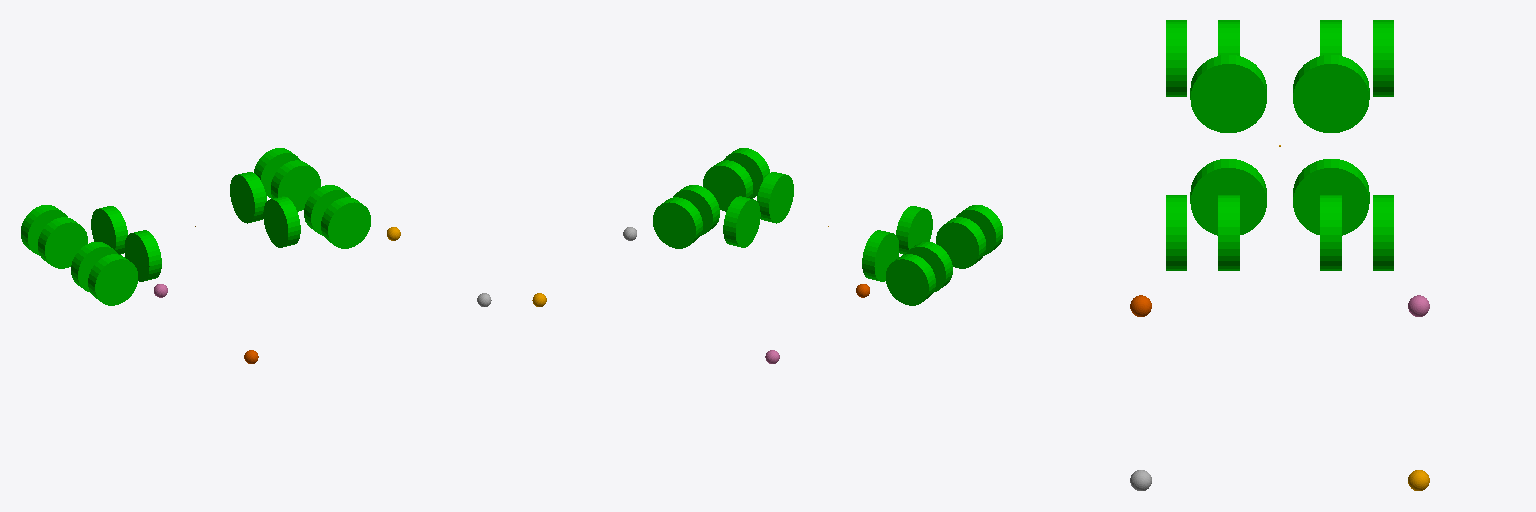
--- What the picture shows (computed from the rendered views, not written in the file) ---
Views: 3 orthographic renders of the robot side by side, from view 1: azimuth 30°, elevation 25°; view 2: azimuth 150°, elevation 25°; view 3: azimuth 270°, elevation 25°.
Robot: go1 — 30 links, 29 joints (12 revolute, 17 fixed); root link base; default pose: joints at zero except 4 at the middle of their limits (FL_calf_joint = -1.85, FR_calf_joint = -1.85, RL_calf_joint = -1.85, RR_calf_joint = -1.85).
Visible links, largest first — view 1: FR_calf_rotor, RR_calf_rotor, RL_thigh_rotor, FL_thigh_rotor, FR_hip_rotor, FL_hip_rotor, RR_hip_rotor, RL_hip_rotor, RR_thigh_rotor, FR_thigh_rotor, RL_calf_rotor, FL_calf_rotor; view 2: FL_calf_rotor, RL_calf_rotor, RR_thigh_rotor, FR_thigh_rotor, FL_hip_rotor, FR_hip_rotor, RL_hip_rotor, RR_hip_rotor, RL_thigh_rotor, FL_thigh_rotor, RR_calf_rotor, FR_calf_rotor; view 3: RL_hip_rotor, RR_hip_rotor, FL_hip_rotor, FR_hip_rotor, FL_thigh_rotor, FR_thigh_rotor, RL_calf_rotor, RR_calf_rotor, FL_calf_rotor, FR_calf_rotor, RL_thigh_rotor, RR_thigh_rotor.
Link boxes in pixels (<box>): FR_calf_rotor: <box>321,197,370,248</box>; RR_calf_rotor: <box>88,254,137,305</box>; RL_thigh_rotor: <box>38,217,87,268</box>; FL_thigh_rotor: <box>271,160,320,211</box>; FR_hip_rotor: <box>263,196,300,247</box>; FL_hip_rotor: <box>230,172,266,223</box>; RR_hip_rotor: <box>125,230,161,281</box>; RL_hip_rotor: <box>91,206,127,254</box>; RR_thigh_rotor: <box>71,242,118,292</box>; FR_thigh_rotor: <box>304,185,350,235</box>; RL_calf_rotor: <box>21,205,67,255</box>; FL_calf_rotor: <box>254,148,300,198</box>; FL_calf_rotor: <box>653,197,702,248</box>; RL_calf_rotor: <box>886,254,935,305</box>; RR_thigh_rotor: <box>936,217,985,268</box>; FR_thigh_rotor: <box>703,160,752,211</box>; FL_hip_rotor: <box>723,196,760,247</box>; FR_hip_rotor: <box>757,172,793,223</box>; RL_hip_rotor: <box>862,230,898,281</box>; RR_hip_rotor: <box>896,206,932,254</box>; RL_thigh_rotor: <box>905,242,952,292</box>; FL_thigh_rotor: <box>673,185,719,235</box>; RR_calf_rotor: <box>956,205,1002,255</box>; FR_calf_rotor: <box>723,148,769,198</box>; RL_hip_rotor: <box>1293,55,1369,132</box>; RR_hip_rotor: <box>1190,55,1266,132</box>; FL_hip_rotor: <box>1293,159,1369,235</box>; FR_hip_rotor: <box>1190,159,1266,235</box>; FL_thigh_rotor: <box>1320,195,1341,270</box>; FR_thigh_rotor: <box>1218,195,1239,270</box>; RL_calf_rotor: <box>1373,20,1393,96</box>; RR_calf_rotor: <box>1166,20,1186,96</box>; FL_calf_rotor: <box>1373,195,1393,270</box>; FR_calf_rotor: <box>1166,195,1186,270</box>; RL_thigh_rotor: <box>1320,20,1341,55</box>; RR_thigh_rotor: <box>1218,20,1239,55</box>.
Size in the robot's own frame: 0.6257 by 0.2735 by 0.1986 metres.
0 mesh visuals loaded from 5 distinct referenced files (none loaded); not drawn: 13 (reference not matched to a file when rendering).

The robot description file, URDF, robot "go1":
<?xml version="1.0" ?>
<!-- =================================================================================== -->
<!-- |    This document was autogenerated by xacro from robot.xacro                    | -->
<!-- |    EDITING THIS FILE BY HAND IS NOT RECOMMENDED                                 | -->
<!-- =================================================================================== -->
<robot name="go1">
  <material name="black">
    <color rgba="0.0 0.0 0.0 1.0"/>
  </material>
  <material name="blue">
    <color rgba="0.0 0.0 0.8 1.0"/>
  </material>
  <material name="green">
    <color rgba="0.0 0.8 0.0 1.0"/>
  </material>
  <material name="grey">
    <color rgba="0.2 0.2 0.2 1.0"/>
  </material>
  <material name="silver">
    <color rgba="0.9137254901960784 0.9137254901960784 0.8470588235294118 1.0"/>
  </material>
  <material name="orange">
    <color rgba="1.0 0.4235294117647059 0.0392156862745098 1.0"/>
  </material>
  <material name="brown">
    <color rgba="0.8705882352941177 0.8117647058823529 0.7647058823529411 1.0"/>
  </material>
  <material name="red">
    <color rgba="0.8 0.0 0.0 1.0"/>
  </material>
  <material name="white">
    <color rgba="1.0 1.0 1.0 1.0"/>
  </material>

  <link name="base">
    <visual>
      <origin rpy="0 0 0" xyz="0 0 0"/>
      <geometry>
        <box size="0.001 0.001 0.001"/>
      </geometry>
    </visual>
  </link>
  <joint name="floating_base" type="fixed">
    <origin rpy="0 0 0" xyz="0 0 0"/>
    <parent link="base"/>
    <child link="trunk"/>
  </joint>
  <link name="trunk">
    <visual>
      <origin rpy="0 0 0" xyz="0 0 0"/>
      <geometry>
        <mesh filename="../dae/trunk.dae" scale="1 1 1"/>
      </geometry>
      <!-- <material name="orange"/> -->
    </visual>
    <collision>
      <origin rpy="0 0 0" xyz="0 0 0"/>
      <geometry>
        <box size="0.3762 0.0935 0.114"/>
      </geometry>
    </collision>
    <inertial>
      <origin rpy="0 0 0" xyz="0.0223 0.002 -0.0005"/>
      <mass value="5.204"/>
      <inertia ixx="0.0168128557" ixy="-0.0002296769" ixz="-0.0002945293" iyy="0.063009565" iyz="-4.18731e-05" izz="0.0716547275"/>
    </inertial>
  </link>

  <joint name="FL_hip_joint" type="revolute">
    <origin rpy="0 0 0" xyz="0.1881 0.04675 0"/>
    <parent link="trunk"/>
    <child link="FL_hip"/>
    <axis xyz="1 0 0"/>
    <dynamics damping="0.0" friction="0.0"/>
    <limit effort="23.7" lower="-0.863" upper="0.863" velocity="30.1"/>
  </joint>
  <joint name="FL_hip_rotor_joint" type="fixed">
    <origin rpy="0 0 0" xyz="0.11215 0.04675 0"/>
    <parent link="trunk"/>
    <child link="FL_hip_rotor"/>
  </joint>
  <link name="FL_hip">
    <visual>
      <origin rpy="0 0 0" xyz="0 0 0"/>
      <geometry>
        <mesh filename="../dae/hip.dae" scale="1 1 1"/>
      </geometry>
      <!-- <material name="orange"/> -->
    </visual>
    <collision>
      <origin rpy="1.5707963267948966 0 0" xyz="0 0.08 0"/>
      <geometry>
        <cylinder length="0.04" radius="0.046"/>
      </geometry>
    </collision>
    <inertial>
      <origin rpy="0 0 0" xyz="-0.005657 -0.008752 -0.000102"/>
      <mass value="0.591"/>
      <inertia ixx="0.000334008405" ixy="-1.0826066e-05" ixz="1.290732e-06" iyy="0.000619101213" iyz="1.643194e-06" izz="0.00040057614"/>
    </inertial>
  </link>
  <link name="FL_hip_rotor">
    <visual>
      <origin rpy="0 1.5707963267948966 0" xyz="0 0 0"/>
      <geometry>
        <cylinder length="0.02" radius="0.035"/>
      </geometry>
      <material name="green"/>
    </visual>
    <collision>
      <origin rpy="0 1.5707963267948966 0" xyz="0 0 0"/>
      <geometry>
        <cylinder length="0.02" radius="0.035"/>
      </geometry>
    </collision>
    <inertial>
      <origin rpy="0 0 0" xyz="0.0 0.0 0.0"/>
      <mass value="0.089"/>
      <inertia ixx="0.000111842" ixy="0.0" ixz="0.0" iyy="5.9647e-05" iyz="0.0" izz="5.9647e-05"/>
    </inertial>
  </link>
  <joint name="FL_thigh_joint" type="revolute">
    <origin rpy="0 0 0" xyz="0 0.08 0"/>
    <parent link="FL_hip"/>
    <child link="FL_thigh"/>
    <axis xyz="0 1 0"/>
    <dynamics damping="0.0" friction="0.0"/>
    <limit effort="23.7" lower="-0.686" upper="4.501" velocity="30.1"/>
  </joint>
  <joint name="FL_thigh_rotor_joint" type="fixed">
    <origin rpy="0 0 0" xyz="0.0 -0.00015 0"/>
    <parent link="FL_hip"/>
    <child link="FL_thigh_rotor"/>
  </joint>
  <link name="FL_thigh">
    <visual>
      <origin rpy="0 0 0" xyz="0 0 0"/>
      <geometry>
        <mesh filename="../dae/thigh.dae" scale="1 1 1"/>
      </geometry>
      <!-- <material name="orange"/> -->
    </visual>
    <collision>
      <origin rpy="0 1.5707963267948966 0" xyz="0 0 -0.1065"/>
      <geometry>
        <box size="0.213 0.0245 0.034"/>
      </geometry>
    </collision>
    <inertial>
      <origin rpy="0 0 0" xyz="-0.003342 -0.018054 -0.033451"/>
      <mass value="0.92"/>
      <inertia ixx="0.004431760472" ixy="5.7496807e-05" ixz="-0.000218457134" iyy="0.004485671726" iyz="0.000572001265" izz="0.000740309489"/>
    </inertial>
  </link>
  <link name="FL_thigh_rotor">
    <visual>
      <origin rpy="1.5707963267948966 0 0" xyz="0 0 0"/>
      <geometry>
        <cylinder length="0.02" radius="0.035"/>
      </geometry>
      <material name="green"/>
    </visual>
    <collision>
      <origin rpy="1.5707963267948966 0 0" xyz="0 0 0"/>
      <geometry>
        <cylinder length="0.02" radius="0.035"/>
      </geometry>
    </collision>
    <inertial>
      <origin rpy="0 0 0" xyz="0.0 0.0 0.0"/>
      <mass value="0.089"/>
      <inertia ixx="5.9647e-05" ixy="0.0" ixz="0.0" iyy="0.000111842" iyz="0.0" izz="5.9647e-05"/>
    </inertial>
  </link>
  <joint name="FL_calf_joint" type="revolute">
    <origin rpy="0 0 0" xyz="0 0 -0.213"/>
    <parent link="FL_thigh"/>
    <child link="FL_calf"/>
    <axis xyz="0 1 0"/>
    <dynamics damping="0.0" friction="0.0"/>
    <limit effort="35.55" lower="-2.818" upper="-0.888" velocity="20.06"/>
  </joint>
  <joint name="FL_calf_rotor_joint" type="fixed">
    <origin rpy="0 0 0" xyz="0.0 -0.03235 0"/>
    <parent link="FL_thigh"/>
    <child link="FL_calf_rotor"/>
  </joint>
  <link name="FL_calf">
    <visual>
      <origin rpy="0 0 0" xyz="0 0 0"/>
      <geometry>
        <mesh filename="../dae/calf.dae" scale="1 1 1"/>
      </geometry>
      <!-- <material name="orange"/> -->
    </visual>
    <collision>
      <origin rpy="0 1.5707963267948966 0" xyz="0 0 -0.1065"/>
      <geometry>
        <box size="0.213 0.016 0.016"/>
      </geometry>
    </collision>
    <inertial>
      <origin rpy="0 0 0" xyz="0.006197 0.001408 -0.116695"/>
      <mass value="0.135862"/>
      <inertia ixx="0.001088793059" ixy="-2.55679e-07" ixz="7.117814e-06" iyy="0.001100428748" iyz="2.077264e-06" izz="2.4787446e-05"/>
    </inertial>
  </link>
  <link name="FL_calf_rotor">
    <visual>
      <origin rpy="1.5707963267948966 0 0" xyz="0 0 0"/>
      <geometry>
        <cylinder length="0.02" radius="0.035"/>
      </geometry>
      <material name="green"/>
    </visual>
    <collision>
      <origin rpy="1.5707963267948966 0 0" xyz="0 0 0"/>
      <geometry>
        <cylinder length="0.02" radius="0.035"/>
      </geometry>
    </collision>
    <inertial>
      <origin rpy="0 0 0" xyz="0.0 0.0 0.0"/>
      <mass value="0.089"/>
      <inertia ixx="5.9647e-05" ixy="0.0" ixz="0.0" iyy="0.000111842" iyz="0.0" izz="5.9647e-05"/>
    </inertial>
  </link>
  <joint name="FL_foot_fixed" type="fixed">
    <origin rpy="0 0 0" xyz="0 0 -0.213"/>
    <parent link="FL_calf"/>
    <child link="FL_foot"/>
  </joint>
  <link name="FL_foot">
    <visual>
      <origin rpy="0 0 0" xyz="0 0 0"/>
      <geometry>
        <sphere radius="0.01"/>
      </geometry>
      <!-- <material name="orange"/> -->
    </visual>
    <collision>
      <origin rpy="0 0 0" xyz="0 0 0"/>
      <geometry>
        <sphere radius="0.02"/>
      </geometry>
    </collision>
    <inertial>
      <mass value="0.06"/>
      <inertia ixx="9.600000000000001e-06" ixy="0.0" ixz="0.0" iyy="9.600000000000001e-06" iyz="0.0" izz="9.600000000000001e-06"/>
    </inertial>
  </link>

  <joint name="FR_hip_joint" type="revolute">
    <origin rpy="0 0 0" xyz="0.1881 -0.04675 0"/>
    <parent link="trunk"/>
    <child link="FR_hip"/>
    <axis xyz="1 0 0"/>
    <dynamics damping="0.0" friction="0.0"/>
    <limit effort="23.7" lower="-0.863" upper="0.863" velocity="30.1"/>
  </joint>
  <joint name="FR_hip_rotor_joint" type="fixed">
    <origin rpy="0 0 0" xyz="0.11215 -0.04675 0"/>
    <parent link="trunk"/>
    <child link="FR_hip_rotor"/>
  </joint>
  <link name="FR_hip">
    <visual>
      <origin rpy="3.141592653589793 0 0" xyz="0 0 0"/>
      <geometry>
        <mesh filename="../dae/hip.dae" scale="1 1 1"/>
      </geometry>
      <!-- <material name="orange"/> -->
    </visual>
    <collision>
      <origin rpy="1.5707963267948966 0 0" xyz="0 -0.08 0"/>
      <geometry>
        <cylinder length="0.04" radius="0.046"/>
      </geometry>
    </collision>
    <inertial>
      <origin rpy="0 0 0" xyz="-0.005657 0.008752 -0.000102"/>
      <mass value="0.591"/>
      <inertia ixx="0.000334008405" ixy="1.0826066e-05" ixz="1.290732e-06" iyy="0.000619101213" iyz="-1.643194e-06" izz="0.00040057614"/>
    </inertial>
  </link>
  <link name="FR_hip_rotor">
    <visual>
      <origin rpy="0 1.5707963267948966 0" xyz="0 0 0"/>
      <geometry>
        <cylinder length="0.02" radius="0.035"/>
      </geometry>
      <material name="green"/>
    </visual>
    <collision>
      <origin rpy="0 1.5707963267948966 0" xyz="0 0 0"/>
      <geometry>
        <cylinder length="0.02" radius="0.035"/>
      </geometry>
    </collision>
    <inertial>
      <origin rpy="0 0 0" xyz="0.0 0.0 0.0"/>
      <mass value="0.089"/>
      <inertia ixx="0.000111842" ixy="0.0" ixz="0.0" iyy="5.9647e-05" iyz="0.0" izz="5.9647e-05"/>
    </inertial>
  </link>
  <joint name="FR_thigh_joint" type="revolute">
    <origin rpy="0 0 0" xyz="0 -0.08 0"/>
    <parent link="FR_hip"/>
    <child link="FR_thigh"/>
    <axis xyz="0 1 0"/>
    <dynamics damping="0.0" friction="0.0"/>
    <limit effort="23.7" lower="-0.686" upper="4.501" velocity="30.1"/>
  </joint>
  <joint name="FR_thigh_rotor_joint" type="fixed">
    <origin rpy="0 0 0" xyz="0.0 0.00015 0"/>
    <parent link="FR_hip"/>
    <child link="FR_thigh_rotor"/>
  </joint>
  <link name="FR_thigh">
    <visual>
      <origin rpy="0 0 0" xyz="0 0 0"/>
      <geometry>
        <mesh filename="../dae/thigh_mirror.dae" scale="1 1 1"/>
      </geometry>
      <!-- <material name="orange"/> -->
    </visual>
    <collision>
      <origin rpy="0 1.5707963267948966 0" xyz="0 0 -0.1065"/>
      <geometry>
        <box size="0.213 0.0245 0.034"/>
      </geometry>
    </collision>
    <inertial>
      <origin rpy="0 0 0" xyz="-0.003342 0.018054 -0.033451"/>
      <mass value="0.92"/>
      <inertia ixx="0.004431760472" ixy="-5.7496807e-05" ixz="-0.000218457134" iyy="0.004485671726" iyz="-0.000572001265" izz="0.000740309489"/>
    </inertial>
  </link>
  <link name="FR_thigh_rotor">
    <visual>
      <origin rpy="1.5707963267948966 0 0" xyz="0 0 0"/>
      <geometry>
        <cylinder length="0.02" radius="0.035"/>
      </geometry>
      <material name="green"/>
    </visual>
    <collision>
      <origin rpy="1.5707963267948966 0 0" xyz="0 0 0"/>
      <geometry>
        <cylinder length="0.02" radius="0.035"/>
      </geometry>
    </collision>
    <inertial>
      <origin rpy="0 0 0" xyz="0.0 0.0 0.0"/>
      <mass value="0.089"/>
      <inertia ixx="5.9647e-05" ixy="0.0" ixz="0.0" iyy="0.000111842" iyz="0.0" izz="5.9647e-05"/>
    </inertial>
  </link>
  <joint name="FR_calf_joint" type="revolute">
    <origin rpy="0 0 0" xyz="0 0 -0.213"/>
    <parent link="FR_thigh"/>
    <child link="FR_calf"/>
    <axis xyz="0 1 0"/>
    <dynamics damping="0.0" friction="0.0"/>
    <limit effort="35.55" lower="-2.818" upper="-0.888" velocity="20.06"/>
  </joint>
  <joint name="FR_calf_rotor_joint" type="fixed">
    <origin rpy="0 0 0" xyz="0.0 0.03235 0"/>
    <parent link="FR_thigh"/>
    <child link="FR_calf_rotor"/>
  </joint>
  <link name="FR_calf">
    <visual>
      <origin rpy="0 0 0" xyz="0 0 0"/>
      <geometry>
        <mesh filename="../dae/calf.dae" scale="1 1 1"/>
      </geometry>
      <!-- <material name="orange"/> -->
    </visual>
    <collision>
      <origin rpy="0 1.5707963267948966 0" xyz="0 0 -0.1065"/>
      <geometry>
        <box size="0.213 0.016 0.016"/>
      </geometry>
    </collision>
    <inertial>
      <origin rpy="0 0 0" xyz="0.006197 0.001408 -0.116695"/>
      <mass value="0.135862"/>
      <inertia ixx="0.001088793059" ixy="-2.55679e-07" ixz="7.117814e-06" iyy="0.001100428748" iyz="2.077264e-06" izz="2.4787446e-05"/>
    </inertial>
  </link>
  <link name="FR_calf_rotor">
    <visual>
      <origin rpy="1.5707963267948966 0 0" xyz="0 0 0"/>
      <geometry>
        <cylinder length="0.02" radius="0.035"/>
      </geometry>
      <material name="green"/>
    </visual>
    <collision>
      <origin rpy="1.5707963267948966 0 0" xyz="0 0 0"/>
      <geometry>
        <cylinder length="0.02" radius="0.035"/>
      </geometry>
    </collision>
    <inertial>
      <origin rpy="0 0 0" xyz="0.0 0.0 0.0"/>
      <mass value="0.089"/>
      <inertia ixx="5.9647e-05" ixy="0.0" ixz="0.0" iyy="0.000111842" iyz="0.0" izz="5.9647e-05"/>
    </inertial>
  </link>
  <joint name="FR_foot_fixed" type="fixed">
    <origin rpy="0 0 0" xyz="0 0 -0.213"/>
    <parent link="FR_calf"/>
    <child link="FR_foot"/>
  </joint>
  <link name="FR_foot">
    <visual>
      <origin rpy="0 0 0" xyz="0 0 0"/>
      <geometry>
        <sphere radius="0.01"/>
      </geometry>
      <!-- <material name="orange"/> -->
    </visual>
    <collision>
      <origin rpy="0 0 0" xyz="0 0 0"/>
      <geometry>
        <sphere radius="0.02"/>
      </geometry>
    </collision>
    <inertial>
      <mass value="0.06"/>
      <inertia ixx="9.600000000000001e-06" ixy="0.0" ixz="0.0" iyy="9.600000000000001e-06" iyz="0.0" izz="9.600000000000001e-06"/>
    </inertial>
  </link>

  <joint name="RL_hip_joint" type="revolute">
    <origin rpy="0 0 0" xyz="-0.1881 0.04675 0"/>
    <parent link="trunk"/>
    <child link="RL_hip"/>
    <axis xyz="1 0 0"/>
    <dynamics damping="0.0" friction="0.0"/>
    <limit effort="23.7" lower="-0.863" upper="0.863" velocity="30.1"/>
  </joint>
  <joint name="RL_hip_rotor_joint" type="fixed">
    <origin rpy="0 0 0" xyz="-0.11215 0.04675 0"/>
    <parent link="trunk"/>
    <child link="RL_hip_rotor"/>
  </joint>
  <link name="RL_hip">
    <visual>
      <origin rpy="0 3.141592653589793 0" xyz="0 0 0"/>
      <geometry>
        <mesh filename="../dae/hip.dae" scale="1 1 1"/>
      </geometry>
      <!-- <material name="orange"/> -->
    </visual>
    <collision>
      <origin rpy="1.5707963267948966 0 0" xyz="0 0.08 0"/>
      <geometry>
        <cylinder length="0.04" radius="0.046"/>
      </geometry>
    </collision>
    <inertial>
      <origin rpy="0 0 0" xyz="0.005657 -0.008752 -0.000102"/>
      <mass value="0.591"/>
      <inertia ixx="0.000334008405" ixy="1.0826066e-05" ixz="-1.290732e-06" iyy="0.000619101213" iyz="1.643194e-06" izz="0.00040057614"/>
    </inertial>
  </link>
  <link name="RL_hip_rotor">
    <visual>
      <origin rpy="0 1.5707963267948966 0" xyz="0 0 0"/>
      <geometry>
        <cylinder length="0.02" radius="0.035"/>
      </geometry>
      <material name="green"/>
    </visual>
    <collision>
      <origin rpy="0 1.5707963267948966 0" xyz="0 0 0"/>
      <geometry>
        <cylinder length="0.02" radius="0.035"/>
      </geometry>
    </collision>
    <inertial>
      <origin rpy="0 0 0" xyz="0.0 0.0 0.0"/>
      <mass value="0.089"/>
      <inertia ixx="0.000111842" ixy="0.0" ixz="0.0" iyy="5.9647e-05" iyz="0.0" izz="5.9647e-05"/>
    </inertial>
  </link>
  <joint name="RL_thigh_joint" type="revolute">
    <origin rpy="0 0 0" xyz="0 0.08 0"/>
    <parent link="RL_hip"/>
    <child link="RL_thigh"/>
    <axis xyz="0 1 0"/>
    <dynamics damping="0.0" friction="0.0"/>
    <limit effort="23.7" lower="-0.686" upper="4.501" velocity="30.1"/>
  </joint>
  <joint name="RL_thigh_rotor_joint" type="fixed">
    <origin rpy="0 0 0" xyz="0.0 -0.00015 0"/>
    <parent link="RL_hip"/>
    <child link="RL_thigh_rotor"/>
  </joint>
  <link name="RL_thigh">
    <visual>
      <origin rpy="0 0 0" xyz="0 0 0"/>
      <geometry>
        <mesh filename="../dae/thigh.dae" scale="1 1 1"/>
      </geometry>
      <!-- <material name="orange"/> -->
    </visual>
    <collision>
      <origin rpy="0 1.5707963267948966 0" xyz="0 0 -0.1065"/>
      <geometry>
        <box size="0.213 0.0245 0.034"/>
      </geometry>
    </collision>
    <inertial>
      <origin rpy="0 0 0" xyz="-0.003342 -0.018054 -0.033451"/>
      <mass value="0.92"/>
      <inertia ixx="0.004431760472" ixy="5.7496807e-05" ixz="-0.000218457134" iyy="0.004485671726" iyz="0.000572001265" izz="0.000740309489"/>
    </inertial>
  </link>
  <link name="RL_thigh_rotor">
    <visual>
      <origin rpy="1.5707963267948966 0 0" xyz="0 0 0"/>
      <geometry>
        <cylinder length="0.02" radius="0.035"/>
      </geometry>
      <material name="green"/>
    </visual>
    <collision>
      <origin rpy="1.5707963267948966 0 0" xyz="0 0 0"/>
      <geometry>
        <cylinder length="0.02" radius="0.035"/>
      </geometry>
    </collision>
    <inertial>
      <origin rpy="0 0 0" xyz="0.0 0.0 0.0"/>
      <mass value="0.089"/>
      <inertia ixx="5.9647e-05" ixy="0.0" ixz="0.0" iyy="0.000111842" iyz="0.0" izz="5.9647e-05"/>
    </inertial>
  </link>
  <joint name="RL_calf_joint" type="revolute">
    <origin rpy="0 0 0" xyz="0 0 -0.213"/>
    <parent link="RL_thigh"/>
    <child link="RL_calf"/>
    <axis xyz="0 1 0"/>
    <dynamics damping="0.0" friction="0.0"/>
    <limit effort="35.55" lower="-2.818" upper="-0.888" velocity="20.06"/>
  </joint>
  <joint name="RL_calf_rotor_joint" type="fixed">
    <origin rpy="0 0 0" xyz="0.0 -0.03235 0"/>
    <parent link="RL_thigh"/>
    <child link="RL_calf_rotor"/>
  </joint>
  <link name="RL_calf">
    <visual>
      <origin rpy="0 0 0" xyz="0 0 0"/>
      <geometry>
        <mesh filename="../dae/calf.dae" scale="1 1 1"/>
      </geometry>
      <!-- <material name="orange"/> -->
    </visual>
    <collision>
      <origin rpy="0 1.5707963267948966 0" xyz="0 0 -0.1065"/>
      <geometry>
        <box size="0.213 0.016 0.016"/>
      </geometry>
    </collision>
    <inertial>
      <origin rpy="0 0 0" xyz="0.006197 0.001408 -0.116695"/>
      <mass value="0.135862"/>
      <inertia ixx="0.001088793059" ixy="-2.55679e-07" ixz="7.117814e-06" iyy="0.001100428748" iyz="2.077264e-06" izz="2.4787446e-05"/>
    </inertial>
  </link>
  <link name="RL_calf_rotor">
    <visual>
      <origin rpy="1.5707963267948966 0 0" xyz="0 0 0"/>
      <geometry>
        <cylinder length="0.02" radius="0.035"/>
      </geometry>
      <material name="green"/>
    </visual>
    <collision>
      <origin rpy="1.5707963267948966 0 0" xyz="0 0 0"/>
      <geometry>
        <cylinder length="0.02" radius="0.035"/>
      </geometry>
    </collision>
    <inertial>
      <origin rpy="0 0 0" xyz="0.0 0.0 0.0"/>
      <mass value="0.089"/>
      <inertia ixx="5.9647e-05" ixy="0.0" ixz="0.0" iyy="0.000111842" iyz="0.0" izz="5.9647e-05"/>
    </inertial>
  </link>
  <joint name="RL_foot_fixed" type="fixed">
    <origin rpy="0 0 0" xyz="0 0 -0.213"/>
    <parent link="RL_calf"/>
    <child link="RL_foot"/>
  </joint>
  <link name="RL_foot">
    <visual>
      <origin rpy="0 0 0" xyz="0 0 0"/>
      <geometry>
        <sphere radius="0.01"/>
      </geometry>
      <!-- <material name="orange"/> -->
    </visual>
    <collision>
      <origin rpy="0 0 0" xyz="0 0 0"/>
      <geometry>
        <sphere radius="0.02"/>
      </geometry>
    </collision>
    <inertial>
      <mass value="0.06"/>
      <inertia ixx="9.600000000000001e-06" ixy="0.0" ixz="0.0" iyy="9.600000000000001e-06" iyz="0.0" izz="9.600000000000001e-06"/>
    </inertial>
  </link>

  <joint name="RR_hip_joint" type="revolute">
    <origin rpy="0 0 0" xyz="-0.1881 -0.04675 0"/>
    <parent link="trunk"/>
    <child link="RR_hip"/>
    <axis xyz="1 0 0"/>
    <dynamics damping="0.0" friction="0.0"/>
    <limit effort="23.7" lower="-0.863" upper="0.863" velocity="30.1"/>
  </joint>
  <joint name="RR_hip_rotor_joint" type="fixed">
    <origin rpy="0 0 0" xyz="-0.11215 -0.04675 0"/>
    <parent link="trunk"/>
    <child link="RR_hip_rotor"/>
  </joint>
  <link name="RR_hip">
    <visual>
      <origin rpy="3.141592653589793 3.141592653589793 0" xyz="0 0 0"/>
      <geometry>
        <mesh filename="../dae/hip.dae" scale="1 1 1"/>
      </geometry>
      <!-- <material name="orange"/> -->
    </visual>
    <collision>
      <origin rpy="1.5707963267948966 0 0" xyz="0 -0.08 0"/>
      <geometry>
        <cylinder length="0.04" radius="0.046"/>
      </geometry>
    </collision>
    <inertial>
      <origin rpy="0 0 0" xyz="0.005657 0.008752 -0.000102"/>
      <mass value="0.591"/>
      <inertia ixx="0.000334008405" ixy="-1.0826066e-05" ixz="-1.290732e-06" iyy="0.000619101213" iyz="-1.643194e-06" izz="0.00040057614"/>
    </inertial>
  </link>
  <link name="RR_hip_rotor">
    <visual>
      <origin rpy="0 1.5707963267948966 0" xyz="0 0 0"/>
      <geometry>
        <cylinder length="0.02" radius="0.035"/>
      </geometry>
      <material name="green"/>
    </visual>
    <collision>
      <origin rpy="0 1.5707963267948966 0" xyz="0 0 0"/>
      <geometry>
        <cylinder length="0.02" radius="0.035"/>
      </geometry>
    </collision>
    <inertial>
      <origin rpy="0 0 0" xyz="0.0 0.0 0.0"/>
      <mass value="0.089"/>
      <inertia ixx="0.000111842" ixy="0.0" ixz="0.0" iyy="5.9647e-05" iyz="0.0" izz="5.9647e-05"/>
    </inertial>
  </link>
  <joint name="RR_thigh_joint" type="revolute">
    <origin rpy="0 0 0" xyz="0 -0.08 0"/>
    <parent link="RR_hip"/>
    <child link="RR_thigh"/>
    <axis xyz="0 1 0"/>
    <dynamics damping="0.0" friction="0.0"/>
    <limit effort="23.7" lower="-0.686" upper="4.501" velocity="30.1"/>
  </joint>
  <joint name="RR_thigh_rotor_joint" type="fixed">
    <origin rpy="0 0 0" xyz="0.0 0.00015 0"/>
    <parent link="RR_hip"/>
    <child link="RR_thigh_rotor"/>
  </joint>
  <link name="RR_thigh">
    <visual>
      <origin rpy="0 0 0" xyz="0 0 0"/>
      <geometry>
        <mesh filename="../dae/thigh_mirror.dae" scale="1 1 1"/>
      </geometry>
      <!-- <material name="orange"/> -->
    </visual>
    <collision>
      <origin rpy="0 1.5707963267948966 0" xyz="0 0 -0.1065"/>
      <geometry>
        <box size="0.213 0.0245 0.034"/>
      </geometry>
    </collision>
    <inertial>
      <origin rpy="0 0 0" xyz="-0.003342 0.018054 -0.033451"/>
      <mass value="0.92"/>
      <inertia ixx="0.004431760472" ixy="-5.7496807e-05" ixz="-0.000218457134" iyy="0.004485671726" iyz="-0.000572001265" izz="0.000740309489"/>
    </inertial>
  </link>
  <link name="RR_thigh_rotor">
    <visual>
      <origin rpy="1.5707963267948966 0 0" xyz="0 0 0"/>
      <geometry>
        <cylinder length="0.02" radius="0.035"/>
      </geometry>
      <material name="green"/>
    </visual>
    <collision>
      <origin rpy="1.5707963267948966 0 0" xyz="0 0 0"/>
      <geometry>
        <cylinder length="0.02" radius="0.035"/>
      </geometry>
    </collision>
    <inertial>
      <origin rpy="0 0 0" xyz="0.0 0.0 0.0"/>
      <mass value="0.089"/>
      <inertia ixx="5.9647e-05" ixy="0.0" ixz="0.0" iyy="0.000111842" iyz="0.0" izz="5.9647e-05"/>
    </inertial>
  </link>
  <joint name="RR_calf_joint" type="revolute">
    <origin rpy="0 0 0" xyz="0 0 -0.213"/>
    <parent link="RR_thigh"/>
    <child link="RR_calf"/>
    <axis xyz="0 1 0"/>
    <dynamics damping="0.0" friction="0.0"/>
    <limit effort="35.55" lower="-2.818" upper="-0.888" velocity="20.06"/>
  </joint>
  <joint name="RR_calf_rotor_joint" type="fixed">
    <origin rpy="0 0 0" xyz="0.0 0.03235 0"/>
    <parent link="RR_thigh"/>
    <child link="RR_calf_rotor"/>
  </joint>
  <link name="RR_calf">
    <visual>
      <origin rpy="0 0 0" xyz="0 0 0"/>
      <geometry>
        <mesh filename="../dae/calf.dae" scale="1 1 1"/>
      </geometry>
      <!-- <material name="orange"/> -->
    </visual>
    <collision>
      <origin rpy="0 1.5707963267948966 0" xyz="0 0 -0.1065"/>
      <geometry>
        <box size="0.213 0.016 0.016"/>
      </geometry>
    </collision>
    <inertial>
      <origin rpy="0 0 0" xyz="0.006197 0.001408 -0.116695"/>
      <mass value="0.135862"/>
      <inertia ixx="0.001088793059" ixy="-2.55679e-07" ixz="7.117814e-06" iyy="0.001100428748" iyz="2.077264e-06" izz="2.4787446e-05"/>
    </inertial>
  </link>
  <link name="RR_calf_rotor">
    <visual>
      <origin rpy="1.5707963267948966 0 0" xyz="0 0 0"/>
      <geometry>
        <cylinder length="0.02" radius="0.035"/>
      </geometry>
      <material name="green"/>
    </visual>
    <collision>
      <origin rpy="1.5707963267948966 0 0" xyz="0 0 0"/>
      <geometry>
        <cylinder length="0.02" radius="0.035"/>
      </geometry>
    </collision>
    <inertial>
      <origin rpy="0 0 0" xyz="0.0 0.0 0.0"/>
      <mass value="0.089"/>
      <inertia ixx="5.9647e-05" ixy="0.0" ixz="0.0" iyy="0.000111842" iyz="0.0" izz="5.9647e-05"/>
    </inertial>
  </link>
  <joint name="RR_foot_fixed" type="fixed">
    <origin rpy="0 0 0" xyz="0 0 -0.213"/>
    <parent link="RR_calf"/>
    <child link="RR_foot"/>
  </joint>
  <link name="RR_foot">
    <visual>
      <origin rpy="0 0 0" xyz="0 0 0"/>
      <geometry>
        <sphere radius="0.01"/>
      </geometry>
      <!-- <material name="orange"/> -->
    </visual>
    <collision>
      <origin rpy="0 0 0" xyz="0 0 0"/>
      <geometry>
        <sphere radius="0.02"/>
      </geometry>
    </collision>
    <inertial>
      <mass value="0.06"/>
      <inertia ixx="9.600000000000001e-06" ixy="0.0" ixz="0.0" iyy="9.600000000000001e-06" iyz="0.0" izz="9.600000000000001e-06"/>
    </inertial>
  </link>

  <!-- <joint name="camera_joint_face" type="fixed">
    <origin rpy="3.141592653589793 0 0" xyz="0.2785 0.0125 0.0167"/>
    <parent link="trunk"/>
    <child link="camera_face"/>
  </joint>
  <link name="camera_face">
    <collision>
      <origin rpy="0 0 0" xyz="0 0 0"/>
      <geometry>
        <box size=".001 .001 .001"/>
      </geometry>
    </collision>
    <visual>
      <origin rpy="0 0 0" xyz="0 0 0"/>
      <geometry>
        <mesh filename="../dae/depthCamera.dae" scale="1 1 1"/>
      </geometry>
    </visual>
    <inertial>
      <mass value="1e-5"/>
      <origin rpy="0 0 0" xyz="0 0 0"/>
      <inertia ixx="1e-6" ixy="0" ixz="0" iyy="1e-6" iyz="0" izz="1e-6"/>
    </inertial>
  </link>
  <joint name="camera_optical_joint_face" type="fixed">
    <origin rpy="-1.5707963267948966 0 -1.5707963267948966" xyz="0 0 0"/>
    <parent link="camera_face"/>
    <child link="camera_optical_face"/>
  </joint>
  <link name="camera_optical_face">
        </link> -->

  <!-- <joint name="camera_joint_chin" type="fixed">
    <origin rpy="3.141592653589793 1.5707963267948966 0" xyz="0.2522 0.0125 -0.0436"/>
    <parent link="trunk"/>
    <child link="camera_chin"/>
  </joint>
  <link name="camera_chin">
    <collision>
      <origin rpy="0 0 0" xyz="0 0 0"/>
      <geometry>
        <box size=".001 .001 .001"/>
      </geometry>
    </collision>
    <visual>
      <origin rpy="0 0 0" xyz="0 0 0"/>
      <geometry>
        <mesh filename="../dae/depthCamera.dae" scale="1 1 1"/>
      </geometry>
    </visual>
    <inertial>
      <mass value="1e-5"/>
      <origin rpy="0 0 0" xyz="0 0 0"/>
      <inertia ixx="1e-6" ixy="0" ixz="0" iyy="1e-6" iyz="0" izz="1e-6"/>
    </inertial>
  </link>
  <joint name="camera_optical_joint_chin" type="fixed">
    <origin rpy="-1.5707963267948966 0 -1.5707963267948966" xyz="0 0 0"/>
    <parent link="camera_chin"/>
    <child link="camera_optical_chin"/>
  </joint>
  <link name="camera_optical_chin">
        </link> -->

  <!-- <joint name="camera_joint_left" type="fixed">
    <origin rpy="3.141592653589793 0.2618 1.5707963267948966" xyz="-0.066 0.082 -0.0176"/>
    <parent link="trunk"/>
    <child link="camera_left"/>
  </joint>
  <link name="camera_left">
    <collision>
      <origin rpy="0 0 0" xyz="0 0 0"/>
      <geometry>
        <box size=".001 .001 .001"/>
      </geometry>
    </collision>
    <visual>
      <origin rpy="0 0 0" xyz="0 0 0"/>
      <geometry>
        <mesh filename="../dae/depthCamera.dae" scale="1 1 1"/>
      </geometry>
    </visual>
    <inertial>
      <mass value="1e-5"/>
      <origin rpy="0 0 0" xyz="0 0 0"/>
      <inertia ixx="1e-6" ixy="0" ixz="0" iyy="1e-6" iyz="0" izz="1e-6"/>
    </inertial>
  </link>
  <joint name="camera_optical_joint_left" type="fixed">
    <origin rpy="-1.5707963267948966 0 -1.5707963267948966" xyz="0 0 0"/>
    <parent link="camera_left"/>
    <child link="camera_optical_left"/>
  </joint>
  <link name="camera_optical_left">
        </link> -->

  <!-- <joint name="camera_joint_right" type="fixed">
    <origin rpy="3.141592653589793 0.2618 -1.5707963267948966" xyz="-0.041 -0.082 -0.0176"/>
    <parent link="trunk"/>
    <child link="camera_right"/>
  </joint>
  <link name="camera_right">
    <collision>
      <origin rpy="0 0 0" xyz="0 0 0"/>
      <geometry>
        <box size=".001 .001 .001"/>
      </geometry>
    </collision>
    <visual>
      <origin rpy="0 0 0" xyz="0 0 0"/>
      <geometry>
        <mesh filename="../dae/depthCamera.dae" scale="1 1 1"/>
      </geometry>
    </visual>
    <inertial>
      <mass value="1e-5"/>
      <origin rpy="0 0 0" xyz="0 0 0"/>
      <inertia ixx="1e-6" ixy="0" ixz="0" iyy="1e-6" iyz="0" izz="1e-6"/>
    </inertial>
  </link>
  <joint name="camera_optical_joint_right" type="fixed">
    <origin rpy="-1.5707963267948966 0 -1.5707963267948966" xyz="0 0 0"/>
    <parent link="camera_right"/>
    <child link="camera_optical_right"/>
  </joint>
  <link name="camera_optical_right">
        </link> -->

  <!-- <joint name="camera_joint_rearDown" type="fixed">
    <origin rpy="3.141592653589793 1.5707963267948966 0" xyz="-0.0825 0.0125 -0.04365"/>
    <parent link="trunk"/>
    <child link="camera_rearDown"/>
  </joint>
  <link name="camera_rearDown">
    <collision>
      <origin rpy="0 0 0" xyz="0 0 0"/>
      <geometry>
        <box size=".001 .001 .001"/>
      </geometry>
    </collision>
    <visual>
      <origin rpy="0 0 0" xyz="0 0 0"/>
      <geometry>
        <mesh filename="../dae/depthCamera.dae" scale="1 1 1"/>
      </geometry>
    </visual>
    <inertial>
      <mass value="1e-5"/>
      <origin rpy="0 0 0" xyz="0 0 0"/>
      <inertia ixx="1e-6" ixy="0" ixz="0" iyy="1e-6" iyz="0" izz="1e-6"/>
    </inertial>
  </link>
  <joint name="camera_optical_joint_rearDown" type="fixed">
    <origin rpy="-1.5707963267948966 0 -1.5707963267948966" xyz="0 0 0"/>
    <parent link="camera_rearDown"/>
    <child link="camera_optical_rearDown"/>
  </joint>
  <link name="camera_optical_rearDown">
        </link> -->

  <!-- <joint name="camera_laserscan_joint_left" type="fixed">
    <origin rpy="0 0.2618 0" xyz="0 0 0"/>
    <parent link="camera_left"/>
    <child link="camera_laserscan_link_left"/>
  </joint>
  <link name="camera_laserscan_link_left">
    </link>
  <joint name="camera_laserscan_joint_right" type="fixed">
    <origin rpy="0 0.2618 0" xyz="0 0 0"/>
    <parent link="camera_right"/>
    <child link="camera_laserscan_link_right"/>
  </joint>
  <link name="camera_laserscan_link_right">
    </link>
  <joint name="ultraSound_joint_left" type="fixed">
    <origin rpy="0 0.2618 1.5707963267948966" xyz="-0.0535  0.0826 0.00868"/>
    <parent link="trunk"/>
    <child link="ultraSound_left"/>
  </joint>
  <link name="ultraSound_left">
    <collision>
      <origin rpy="0 0 0" xyz="0 0 0"/>
      <geometry>
        <box size=".001 .001 .001"/>
      </geometry>
    </collision>
    <visual>
      <origin rpy="0 0 0" xyz="0 0 0"/>
      <geometry>
        <mesh filename="../dae/ultraSound.dae" scale="1 1 1"/>
      </geometry>
      <material name="black"/>
    </visual>
    <inertial>
      <mass value="1e-5"/>
      <origin rpy="0 0 0" xyz="0 0 0"/>
      <inertia ixx="1e-6" ixy="0" ixz="0" iyy="1e-6" iyz="0" izz="1e-6"/>
    </inertial>
  </link>
  <joint name="ultraSound_joint_right" type="fixed">
    <origin rpy="0 0.2618 -1.5707963267948966" xyz="-0.0535 -0.0826 0.00868"/>
    <parent link="trunk"/>
    <child link="ultraSound_right"/>
  </joint>
  <link name="ultraSound_right">
    <collision>
      <origin rpy="0 0 0" xyz="0 0 0"/>
      <geometry>
        <box size=".001 .001 .001"/>
      </geometry>
    </collision>
    <visual>
      <origin rpy="0 0 0" xyz="0 0 0"/>
      <geometry>
        <mesh filename="../dae/ultraSound.dae" scale="1 1 1"/>
      </geometry>
      <material name="black"/>
    </visual>
    <inertial>
      <mass value="1e-5"/>
      <origin rpy="0 0 0" xyz="0 0 0"/>
      <inertia ixx="1e-6" ixy="0" ixz="0" iyy="1e-6" iyz="0" izz="1e-6"/>
    </inertial>
  </link>
  <joint name="ultraSound_joint_face" type="fixed">
    <origin rpy="0 0 0" xyz="0.2747 0.0 -0.0088"/>
    <parent link="trunk"/>
    <child link="ultraSound_face"/>
  </joint>
  <link name="ultraSound_face">
    <collision>
      <origin rpy="0 0 0" xyz="0 0 0"/>
      <geometry>
        <box size=".001 .001 .001"/>
      </geometry>
    </collision>
    <visual>
      <origin rpy="0 0 0" xyz="0 0 0"/>
      <geometry>
        <mesh filename="../dae/ultraSound.dae" scale="1 1 1"/>
      </geometry>
      <material name="black"/>
    </visual>
    <inertial>
      <mass value="1e-5"/>
      <origin rpy="0 0 0" xyz="0 0 0"/>
      <inertia ixx="1e-6" ixy="0" ixz="0" iyy="1e-6" iyz="0" izz="1e-6"/>
    </inertial>
  </link> -->
</robot>
